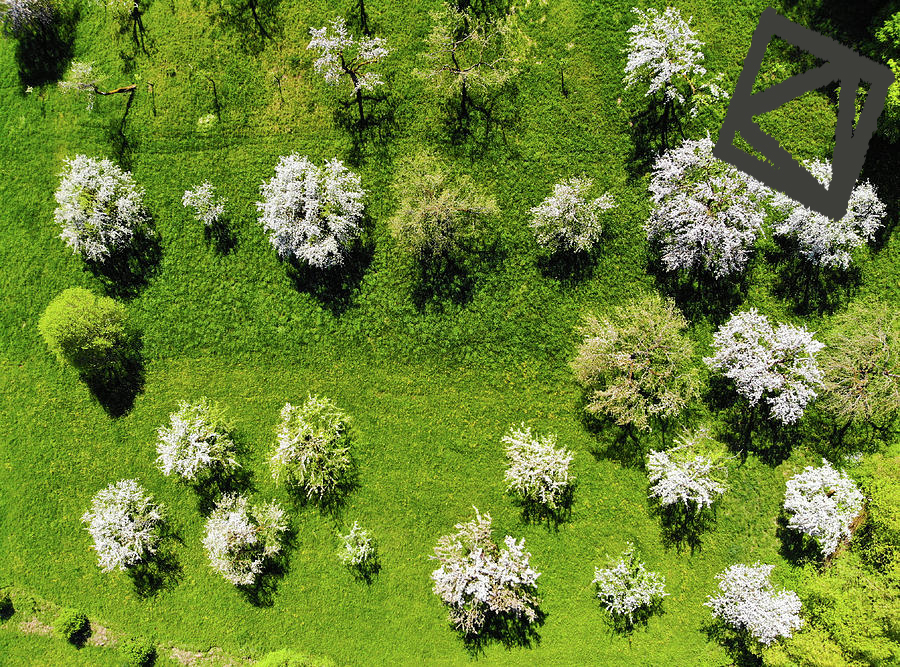marker: (710, 3, 900, 224)
